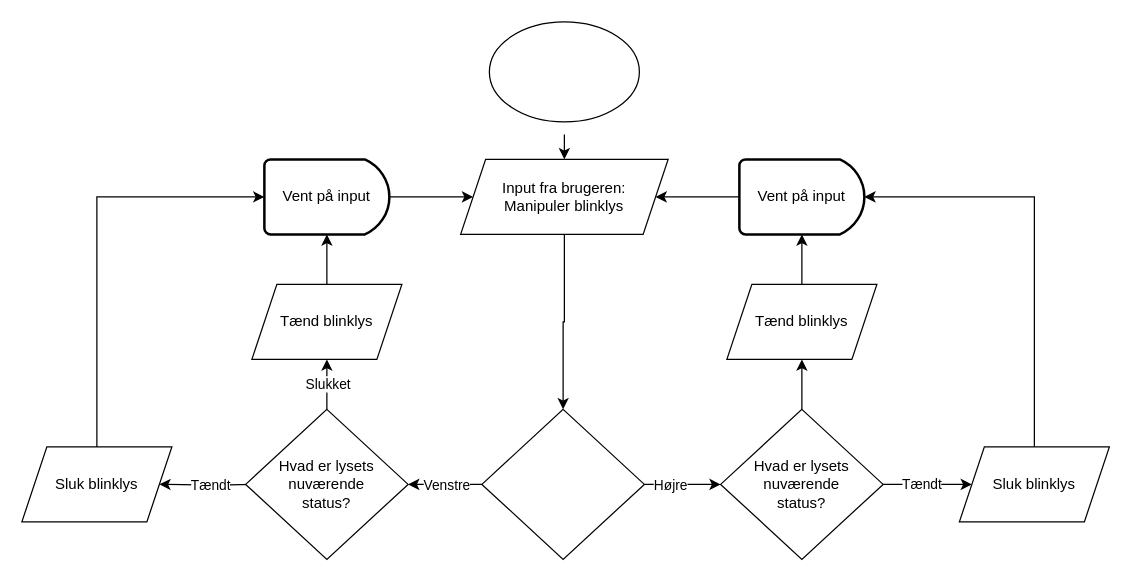
Some shapes in this 1131 by 581 pixel diagram are drawn without their labels. Here are the shapes that lost their labels. From the top down, the box of each, then its label:
(488, 21, 639, 122): Start
(481, 408, 644, 559): Hvilket blinklys manipuleres?
